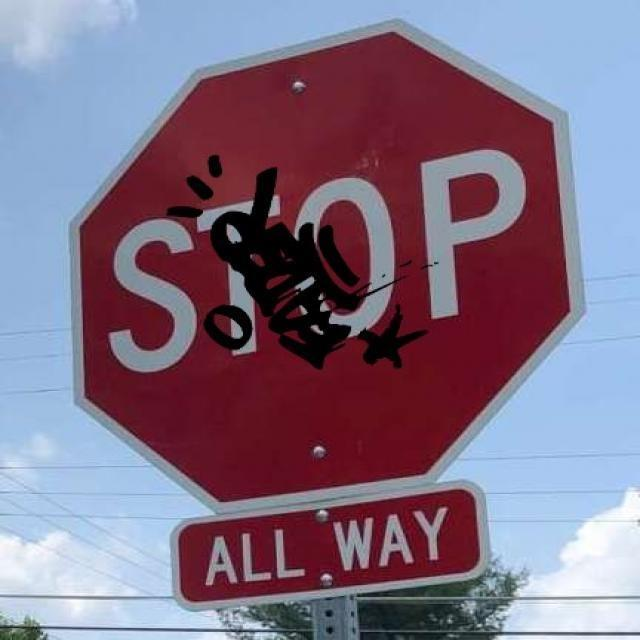Stop-Sign: (86, 65, 540, 480)
